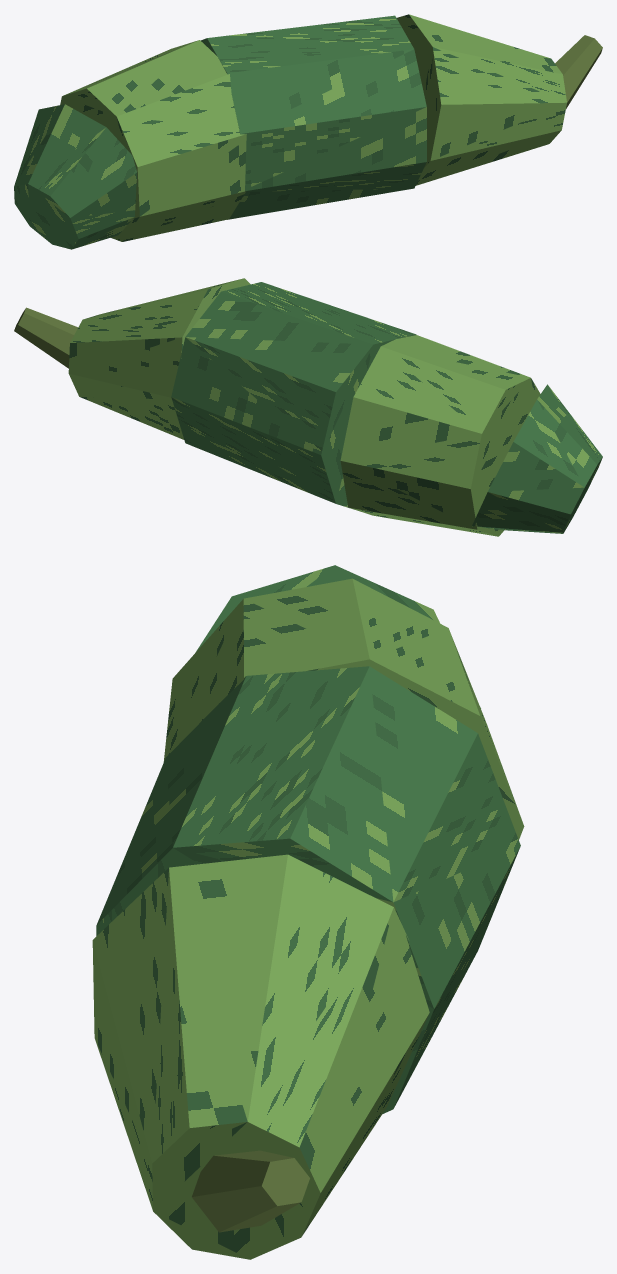
Rendered from gherkin.glb.
3 views of the same model, one above another, from view 1: azimuth 30°, elevation 25°; view 2: azimuth 150°, elevation 25°; view 3: azimuth 270°, elevation 25° (orthographic). The views are drawn at different scales.
Visible parts, largest first — view 1: block_gherkin 2, block_gherkin 1, block_gherkin 3, block_gherkin 0, block_green peduncle; view 2: block_gherkin 2, block_gherkin 1, block_gherkin 3, block_gherkin 0, block_green peduncle; view 3: block_gherkin 3, block_gherkin 2, block_gherkin 1, block_green peduncle, block_gherkin 0.
Boxes of the visible parts, bbox=[...] form: block_gherkin 2: bbox=[200, 15, 426, 219]; block_gherkin 1: bbox=[60, 40, 246, 241]; block_gherkin 3: bbox=[396, 14, 566, 185]; block_gherkin 0: bbox=[14, 104, 137, 249]; block_green peduncle: bbox=[555, 35, 602, 108]; block_gherkin 2: bbox=[171, 282, 416, 508]; block_gherkin 1: bbox=[340, 335, 540, 536]; block_gherkin 3: bbox=[68, 278, 250, 439]; block_gherkin 0: bbox=[472, 384, 602, 533]; block_green peduncle: bbox=[14, 307, 78, 368]; block_gherkin 3: bbox=[92, 854, 429, 1259]; block_gherkin 2: bbox=[96, 666, 520, 1113]; block_gherkin 1: bbox=[163, 578, 524, 839]; block_green peduncle: bbox=[192, 1150, 309, 1232]; block_gherkin 0: bbox=[195, 565, 480, 708].
Size of the model in its own units: 0.1 by 0.0279 by 0.0328.
1 material, 1 textured.
